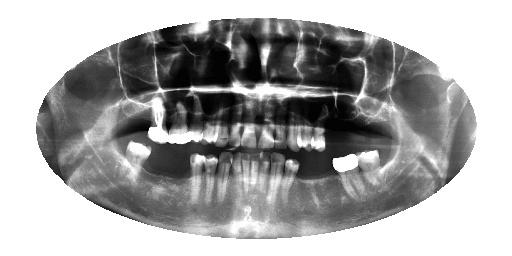Fillings: (332, 151, 366, 205), (146, 93, 171, 149), (167, 94, 189, 147)
